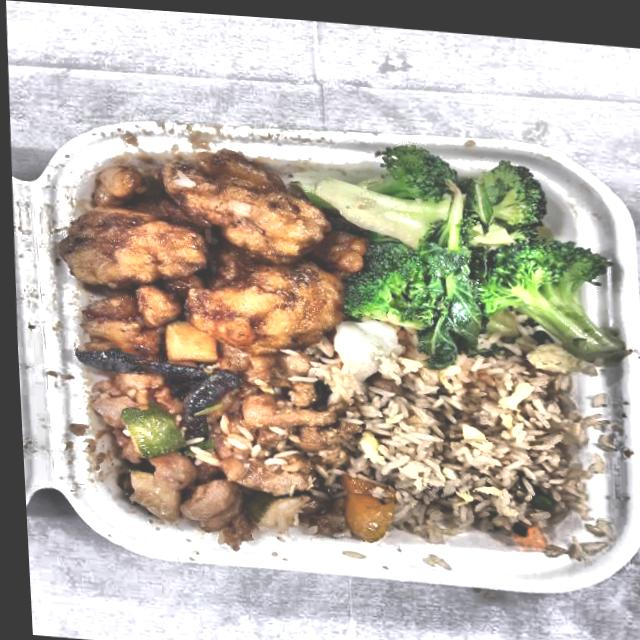Food: (34, 126, 367, 395), (307, 128, 628, 391), (54, 314, 389, 557), (306, 315, 604, 550)
